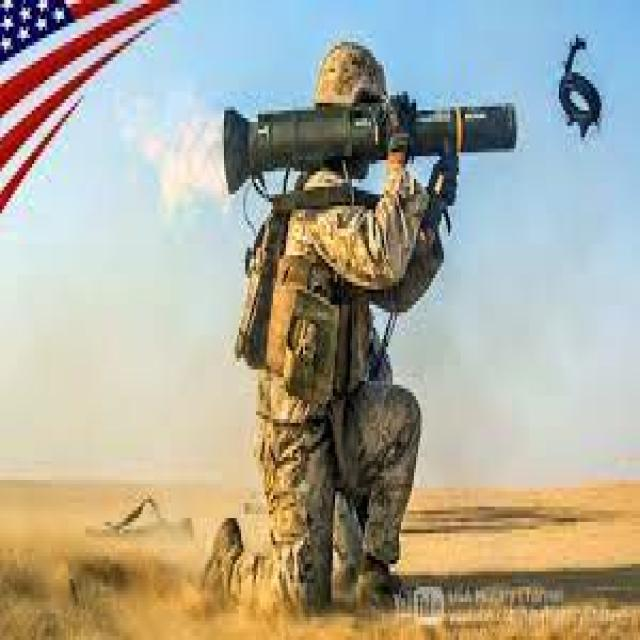bazooka: (208, 79, 529, 210)
